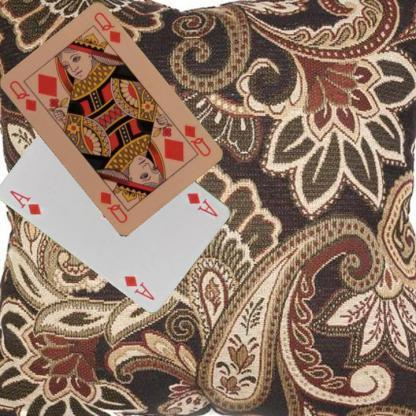Ad: (7, 187, 42, 217), (184, 190, 219, 218)
Qd: (173, 122, 212, 158), (5, 78, 38, 113)
